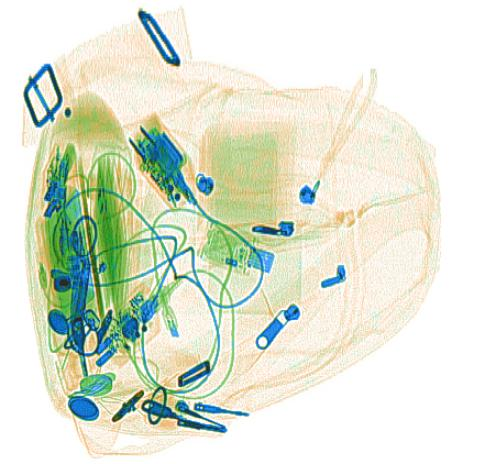USBFlashDisk: (194, 220, 276, 276)
